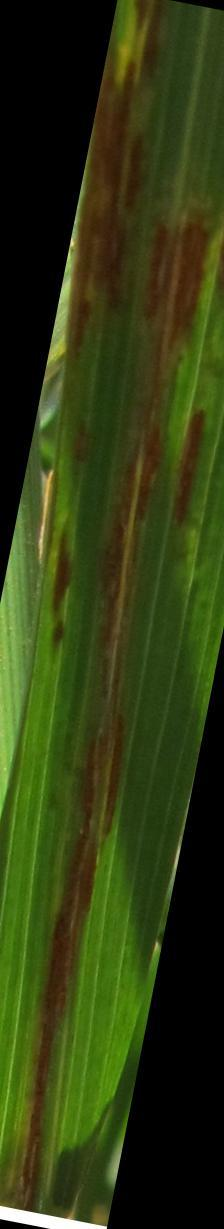Wheat: (0, 721, 182, 1214), (67, 0, 209, 379), (35, 411, 205, 699)
